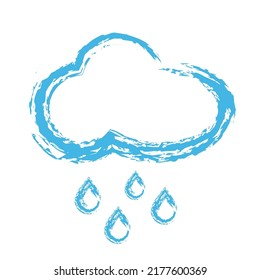cloud: (25, 30, 237, 166)
